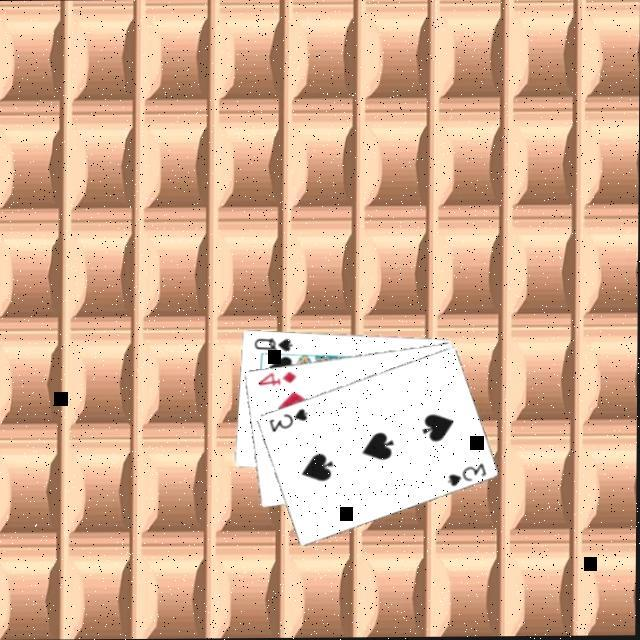3S: (267, 406, 313, 436), (446, 461, 492, 491)
4D: (257, 370, 301, 390)
QS: (254, 335, 298, 355)
